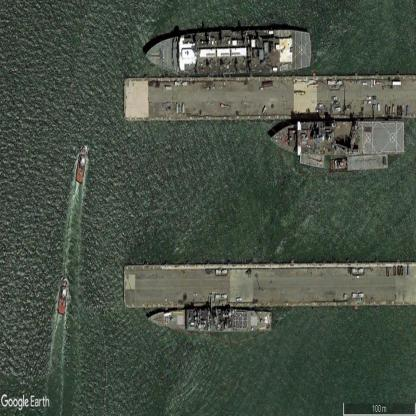ship: (144, 30, 312, 73), (270, 119, 405, 170), (147, 308, 272, 334), (56, 277, 70, 317), (75, 147, 88, 185)
